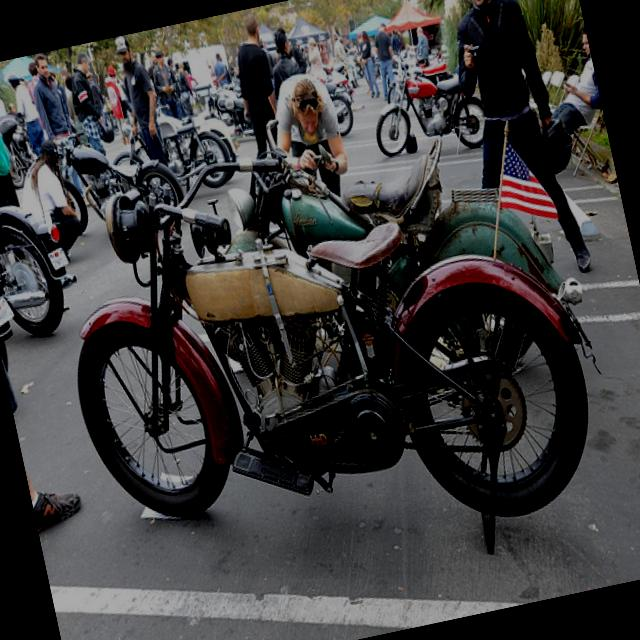Vehicle: (28, 52, 632, 632), (203, 61, 578, 360), (52, 112, 187, 234), (362, 44, 490, 165), (0, 176, 83, 343), (151, 96, 236, 197), (305, 58, 357, 140)
